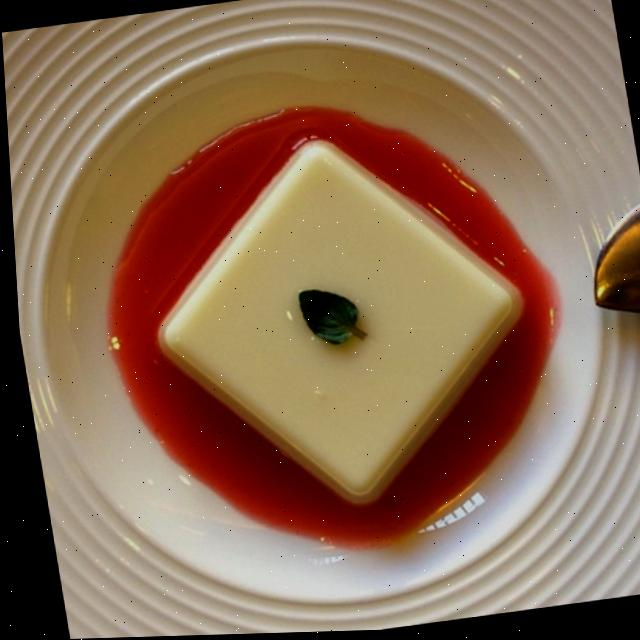面条主食: (132, 144, 599, 545)
